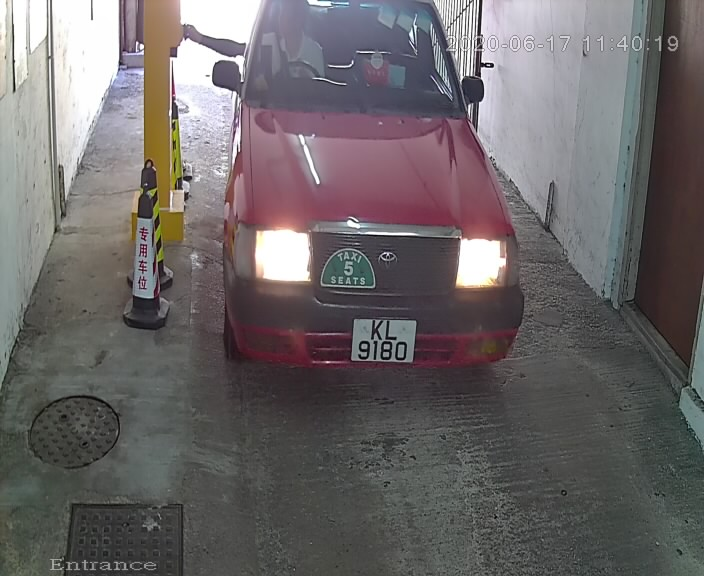taxi: (202, 1, 545, 399)
taxi_mark: (316, 235, 385, 298)
